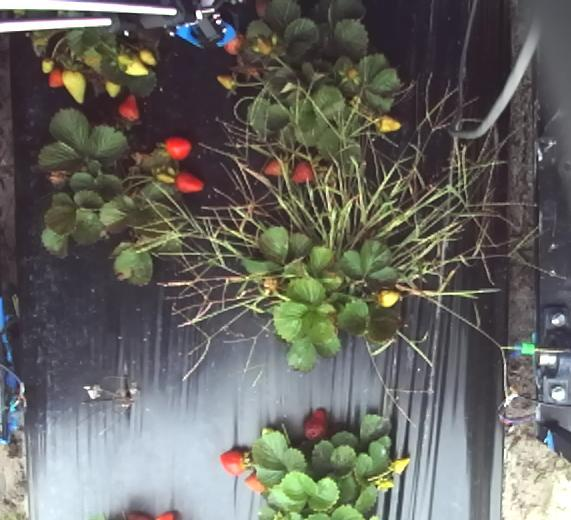mature: (219, 446, 250, 477), (302, 406, 327, 440), (163, 135, 191, 160), (117, 93, 140, 122), (175, 172, 205, 193), (291, 160, 314, 184), (247, 473, 270, 495), (265, 158, 286, 181), (254, 0, 273, 23), (227, 35, 244, 59)
